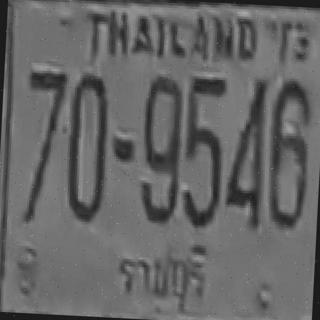N00: (64, 72, 110, 218), (180, 123, 221, 227), (140, 74, 183, 170)
N04: (223, 77, 266, 227)
N07: (25, 69, 66, 162)
N09: (138, 94, 182, 223)
P52: (107, 235, 213, 317)
